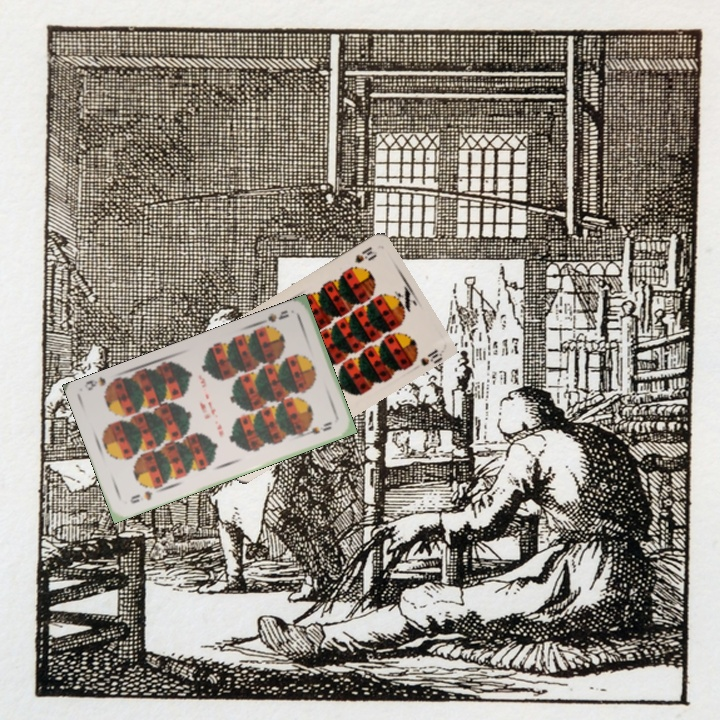S10: (350, 243, 380, 266)
S9: (255, 306, 292, 333), (126, 487, 155, 506)
